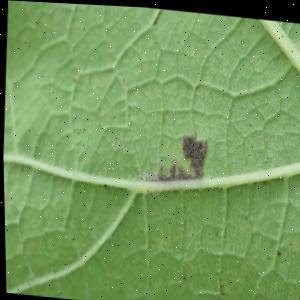Folha: (0, 0, 300, 300)
Fungo: (139, 126, 209, 184), (141, 152, 195, 184), (180, 130, 208, 176), (141, 155, 165, 181), (181, 130, 196, 157), (140, 167, 158, 180), (196, 135, 207, 155), (176, 161, 187, 178), (168, 155, 177, 175), (216, 274, 224, 292), (156, 156, 163, 175), (140, 167, 149, 179), (177, 161, 184, 172), (157, 170, 165, 178)
